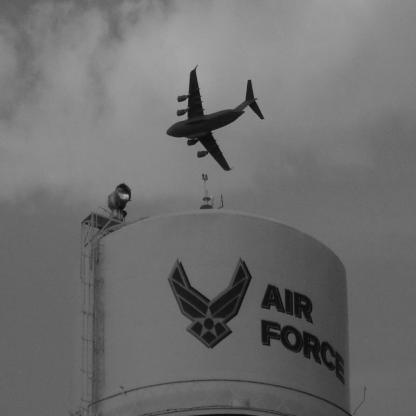C17: (167, 65, 266, 173)
